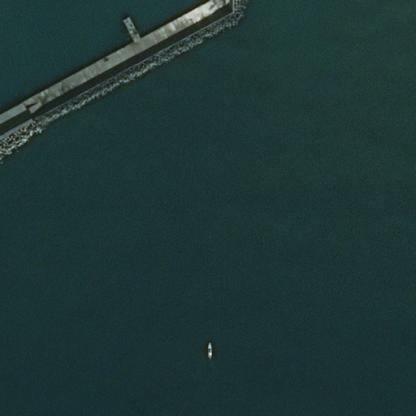ship: (200, 332, 218, 364)
